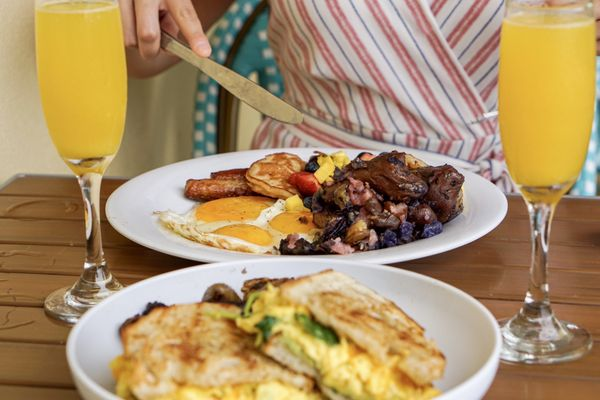sushi: (67, 256, 508, 396)
